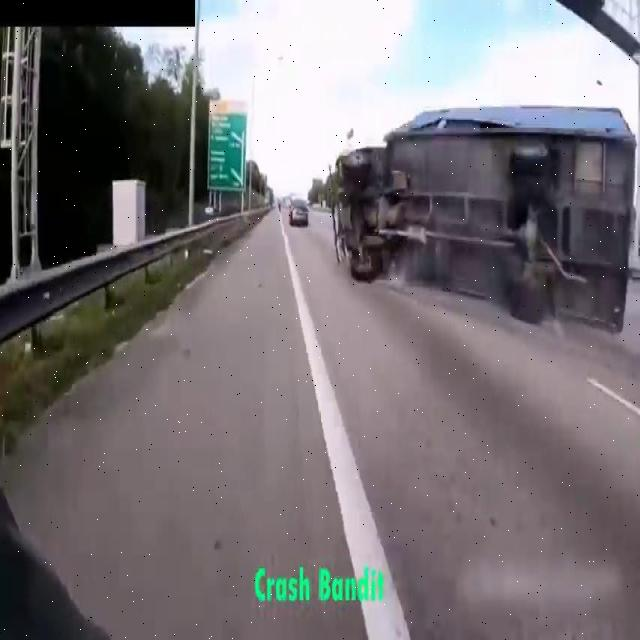severe: (322, 97, 640, 339)
